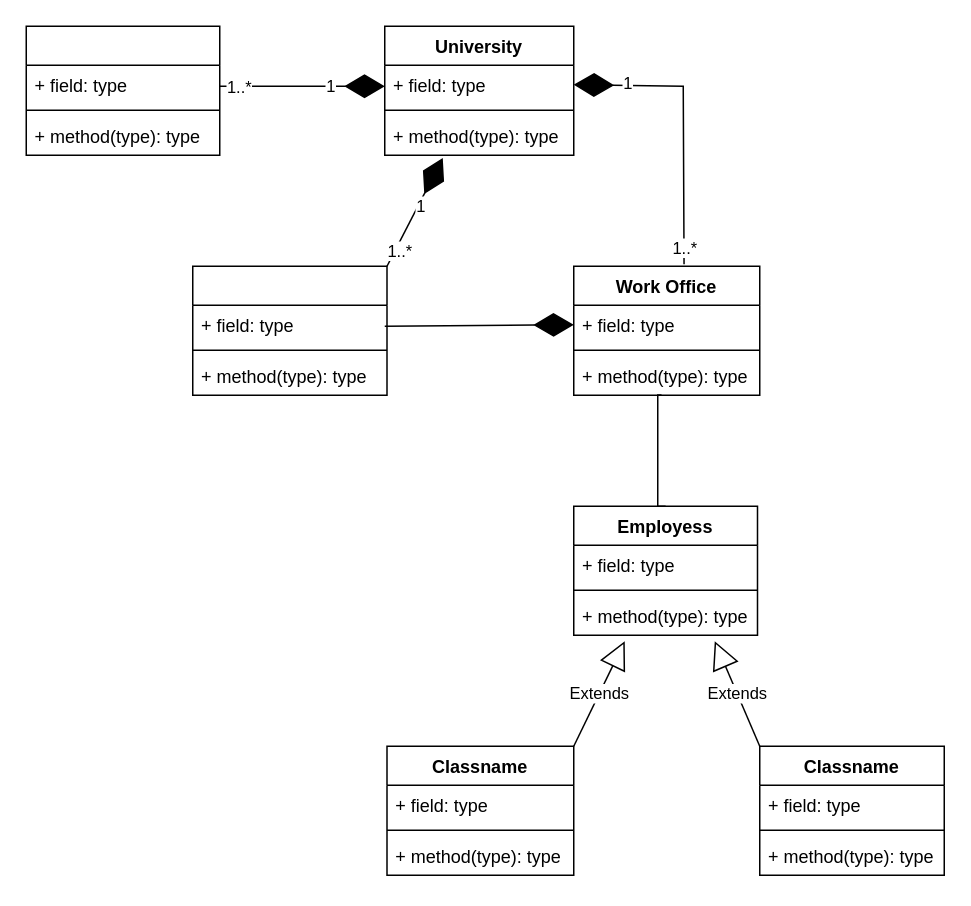
Some shapes in this 971 by 906 pixel diagram are drawn without their labels. Each missing label, with the box of its shape:
Clasrooms: (25, 25, 220, 155)
Departmant: (191, 265, 387, 395)
